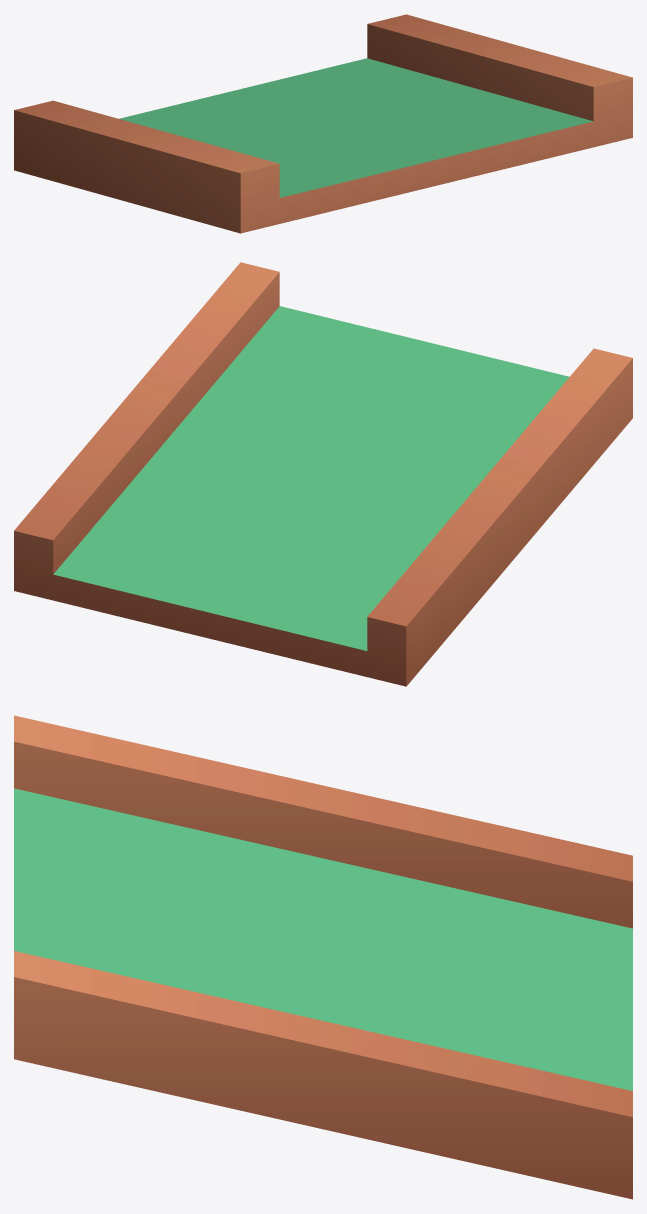
The model's file is ramp-medium.glb.
3 views of the same model, one above another, from view 1: azimuth 30°, elevation 25°; view 2: azimuth 150°, elevation 25°; view 3: azimuth 270°, elevation 25° (orthographic). The views are drawn at different scales.
Parts seen in each view (by area): view 1: ramp-medium; view 2: ramp-medium; view 3: ramp-medium.
Part boxes in pixels (x1,y1,x2,y2): ramp-medium: (14,14,632,233); ramp-medium: (14,262,632,686); ramp-medium: (14,715,632,1199).
Bounding box in the file's own units: 0.9999 × 0.3966 × 0.9999.
1 material, 1 textured.
